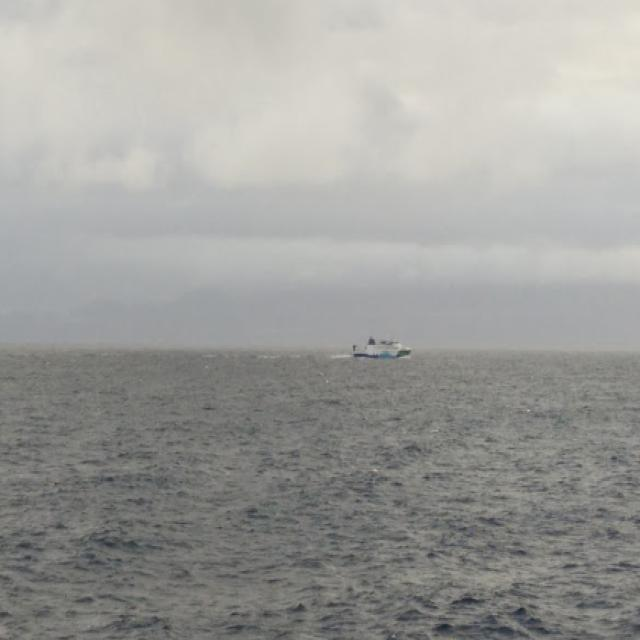houseboat: (352, 335, 411, 357)
